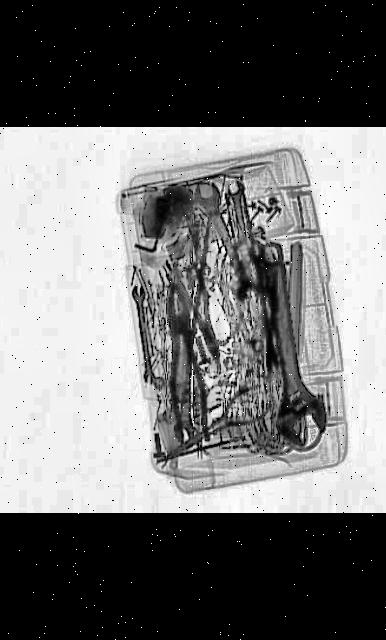Pliers: (152, 383, 288, 471)
Wrench: (246, 240, 332, 450), (189, 182, 253, 270), (130, 286, 160, 386), (172, 353, 196, 445), (224, 181, 256, 245)
